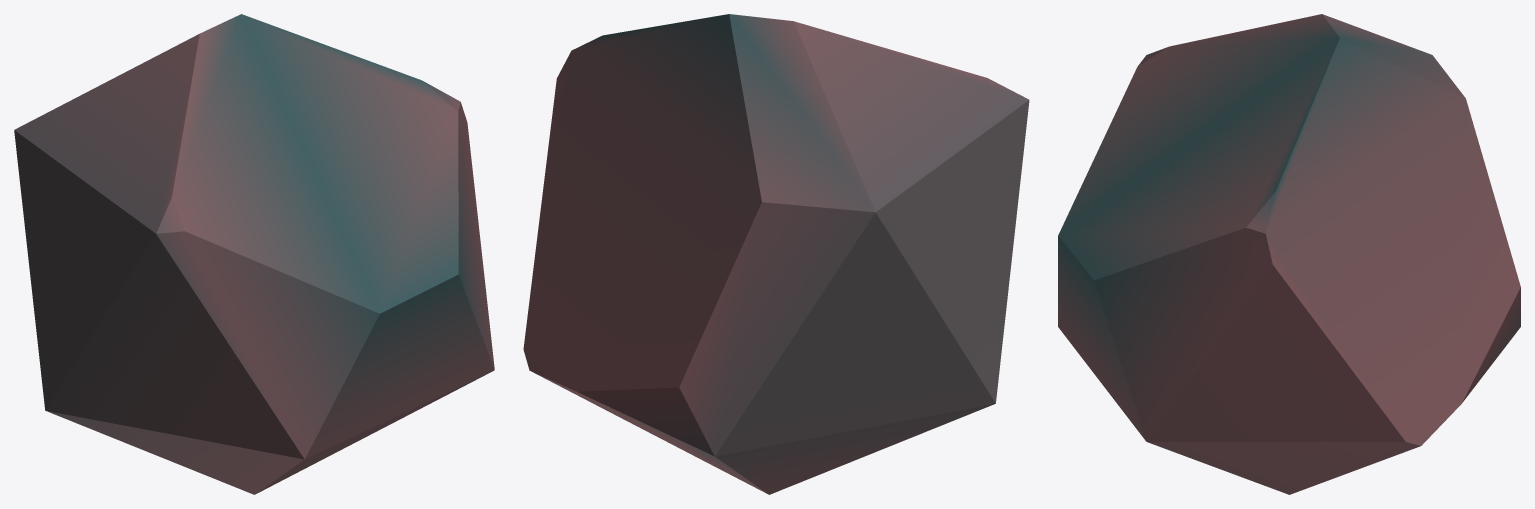
The model's file is rightHand.glb.
3 views of the same model, side by side, from view 1: azimuth 30°, elevation 25°; view 2: azimuth 150°, elevation 25°; view 3: azimuth 270°, elevation 25° (orthographic). The views are drawn at different scales.
Visible parts, largest first — view 1: gemstone_anim_neg10_5_10; view 2: gemstone_anim_neg10_5_10; view 3: gemstone_anim_neg10_5_10.
Boxes of the visible parts, box(x1,y1,x2,y2) form: gemstone_anim_neg10_5_10: box(14, 14, 494, 494); gemstone_anim_neg10_5_10: box(523, 14, 1029, 494); gemstone_anim_neg10_5_10: box(1058, 14, 1520, 494).
Size of the model in its own units: 18.72 by 19.87 by 18.01.
